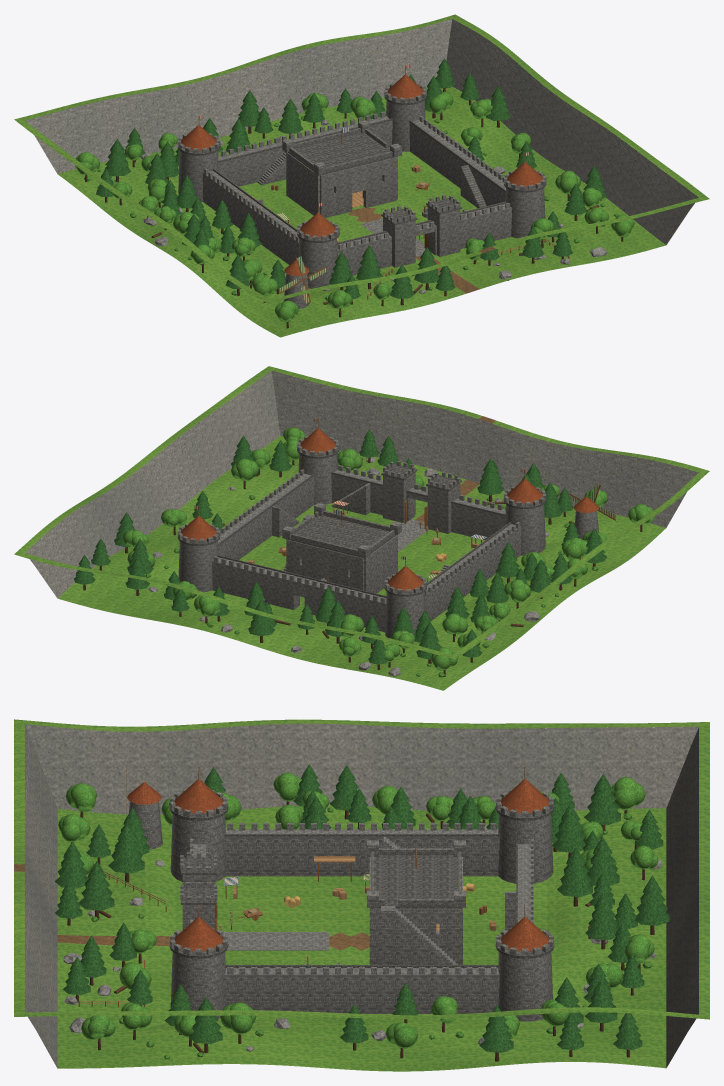
File: map_keep (1).glb
3 views of the same model, one above another, from view 1: azimuth 30°, elevation 25°; view 2: azimuth 150°, elevation 25°; view 3: azimuth 270°, elevation 25° (orthographic). The views are drawn at different scales.
Parts seen in each view (by area): view 1: rock, grass, stone, pine, leaves, stonedark, rooftile, nocol_stone, bark, dirt, wood; view 2: rock, grass, stone, pine, leaves, stonedark, rooftile, nocol_stone, bark, wood; view 3: grass, rock, stone, pine, leaves, stonedark, rooftile, nocol_stone, bark, dirt, woodlight, wood.
Boxes of the visible parts, x1=… form: rock: x1=25, y1=19, x2=698, y2=293; grass: x1=14, y1=14, x2=709, y2=337; stone: x1=177, y1=82, x2=546, y2=308; pine: x1=96, y1=58, x2=607, y2=298; leaves: x1=75, y1=91, x2=634, y2=322; stonedark: x1=177, y1=94, x2=546, y2=244; rooftile: x1=181, y1=74, x2=542, y2=275; nocol_stone: x1=257, y1=148, x2=486, y2=211; bark: x1=85, y1=88, x2=623, y2=328; dirt: x1=348, y1=207, x2=495, y2=293; wood: x1=198, y1=65, x2=569, y2=302; rock: x1=25, y1=370, x2=698, y2=676; grass: x1=14, y1=366, x2=709, y2=690; stone: x1=177, y1=436, x2=598, y2=641; pine: x1=74, y1=429, x2=606, y2=664; leaves: x1=123, y1=427, x2=654, y2=677; stonedark: x1=177, y1=448, x2=546, y2=597; rooftile: x1=181, y1=428, x2=598, y2=591; nocol_stone: x1=272, y1=483, x2=449, y2=581; bark: x1=83, y1=457, x2=642, y2=676; wood: x1=198, y1=419, x2=615, y2=582; grass: x1=14, y1=719, x2=709, y2=1071; rock: x1=25, y1=723, x2=698, y2=1068; stone: x1=129, y1=789, x2=553, y2=1021; pine: x1=55, y1=764, x2=669, y2=1052; leaves: x1=58, y1=772, x2=658, y2=1059; stonedark: x1=169, y1=805, x2=554, y2=967; rooftile: x1=127, y1=779, x2=549, y2=951; nocol_stone: x1=334, y1=836, x2=516, y2=964; bark: x1=67, y1=801, x2=654, y2=1061; dirt: x1=14, y1=864, x2=369, y2=950; woodlight: x1=79, y1=856, x2=496, y2=1003; wood: x1=78, y1=766, x2=525, y2=1006.
Size of what is drawn, in the model's own units: 128 by 22.64 by 128.
Materials: 18 (18 with a texture image).
